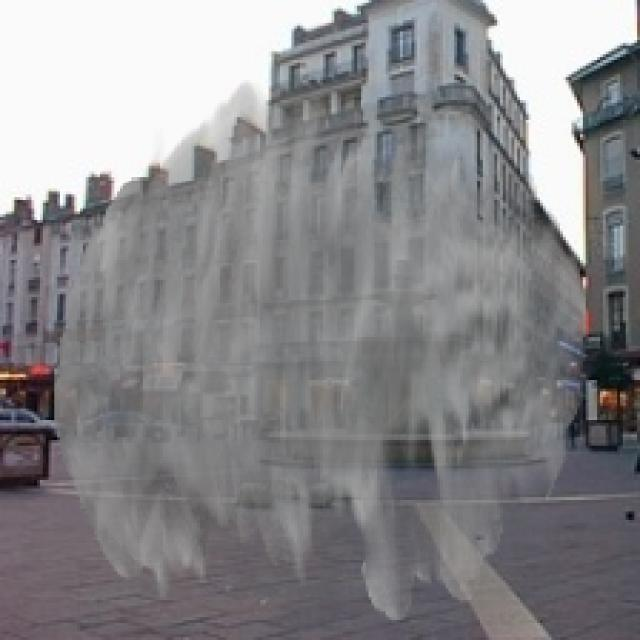smoke: (54, 77, 589, 623)
